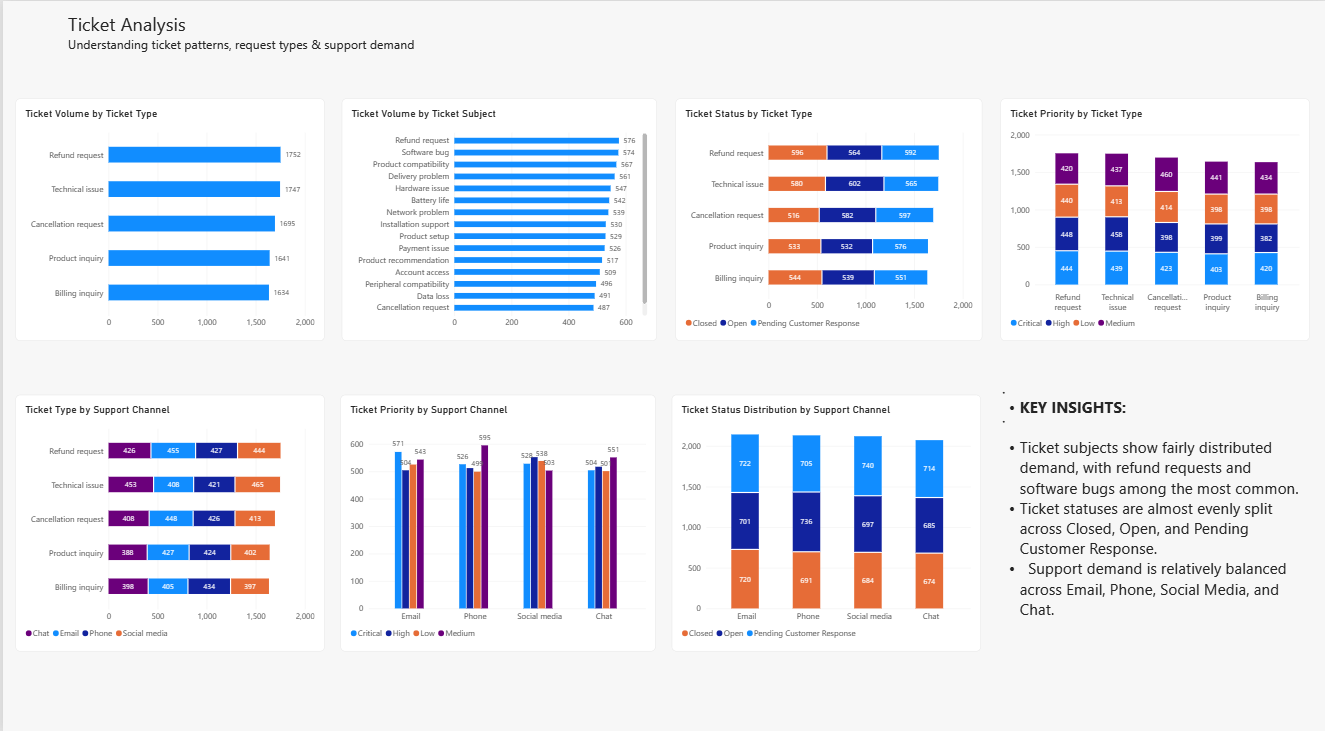

This screenshot's page, from the dashboard's own definition file:
{"tool":"powerbi","page":{"name":"Ticket Analysis","canvas":[2300,1270],"ordinal":1},"visuals":[{"type":"textbox","box":[112.5,17.9,782.1,119.6],"z":0},{"type":"clusteredBarChart","title":"Ticket Volume by Ticket Type","fields":{"Category":["Customer_Support_Cleaned_v2.Ticket Type"],"Y":["CountNonNull(Customer_Support_Cleaned_v2.Ticket ID)"]},"box":[21.4,169.6,537.5,421.4],"z":1},{"type":"clusteredBarChart","title":"Ticket Volume by Ticket Subject","fields":{"Category":["Customer_Support_Cleaned_v2.Ticket Subject"],"Y":["CountNonNull(Customer_Support_Cleaned_v2.Ticket ID)"]},"box":[589.9,169.6,548.2,421.4],"z":2},{"type":"barChart","title":"Ticket Status by Ticket Type","fields":{"Category":["Customer_Support_Cleaned_v2.Ticket Type"],"Series":["Customer_Support_Cleaned_v2.Ticket Status"],"Y":["CountNonNull(Customer_Support_Cleaned_v2.Ticket ID)"]},"box":[1169,169.6,533.9,421.4],"z":3},{"type":"columnChart","title":"Ticket Priority by Ticket Type","fields":{"Category":["Customer_Support_Cleaned_v2.Ticket Type"],"Series":["Customer_Support_Cleaned_v2.Ticket Priority"],"Y":["CountNonNull(Customer_Support_Cleaned_v2.Ticket ID)"]},"box":[1733.9,169.6,537.5,421.4],"z":4},{"type":"barChart","title":"Ticket Type by Support Channel","fields":{"Category":["Customer_Support_Cleaned_v2.Ticket Type"],"Series":["Customer_Support_Cleaned_v2.Ticket Channel"],"Y":["CountNonNull(Customer_Support_Cleaned_v2.Ticket ID)"]},"box":[21.4,683.9,537.5,446.4],"z":5},{"type":"clusteredColumnChart","title":"Ticket Priority by Support Channel","fields":{"Category":["Customer_Support_Cleaned_v2.Ticket Channel"],"Series":["Customer_Support_Cleaned_v2.Ticket Priority"],"Y":["CountNonNull(Customer_Support_Cleaned_v2.Ticket ID)"]},"box":[586.6,683.9,548.2,446.4],"z":6},{"type":"columnChart","title":"Ticket Status Distribution by Support Channel","fields":{"Category":["Customer_Support_Cleaned_v2.Ticket Channel"],"Series":["Customer_Support_Cleaned_v2.Ticket Status"],"Y":["CountNonNull(Customer_Support_Cleaned_v2.Ticket ID)"]},"box":[1162.5,683.9,537.5,446.4],"z":7},{"type":"textbox","box":[1728,672,544,464],"z":8}]}

Visuals, with their boxes in screenshot pixels (x1, y1, x2, y2), scaled from the page's 2300x1270 canvas onto the 1325x731 screenshot:
textbox: <box>65,10,515,79</box>
"Ticket Volume by Ticket Type" clusteredBarChart: <box>12,98,322,340</box>
"Ticket Volume by Ticket Subject" clusteredBarChart: <box>340,98,656,340</box>
"Ticket Status by Ticket Type" barChart: <box>673,98,981,340</box>
"Ticket Priority by Ticket Type" columnChart: <box>999,98,1309,340</box>
"Ticket Type by Support Channel" barChart: <box>12,394,322,651</box>
"Ticket Priority by Support Channel" clusteredColumnChart: <box>338,394,654,651</box>
"Ticket Status Distribution by Support Channel" columnChart: <box>670,394,979,651</box>
textbox: <box>995,387,1309,654</box>
